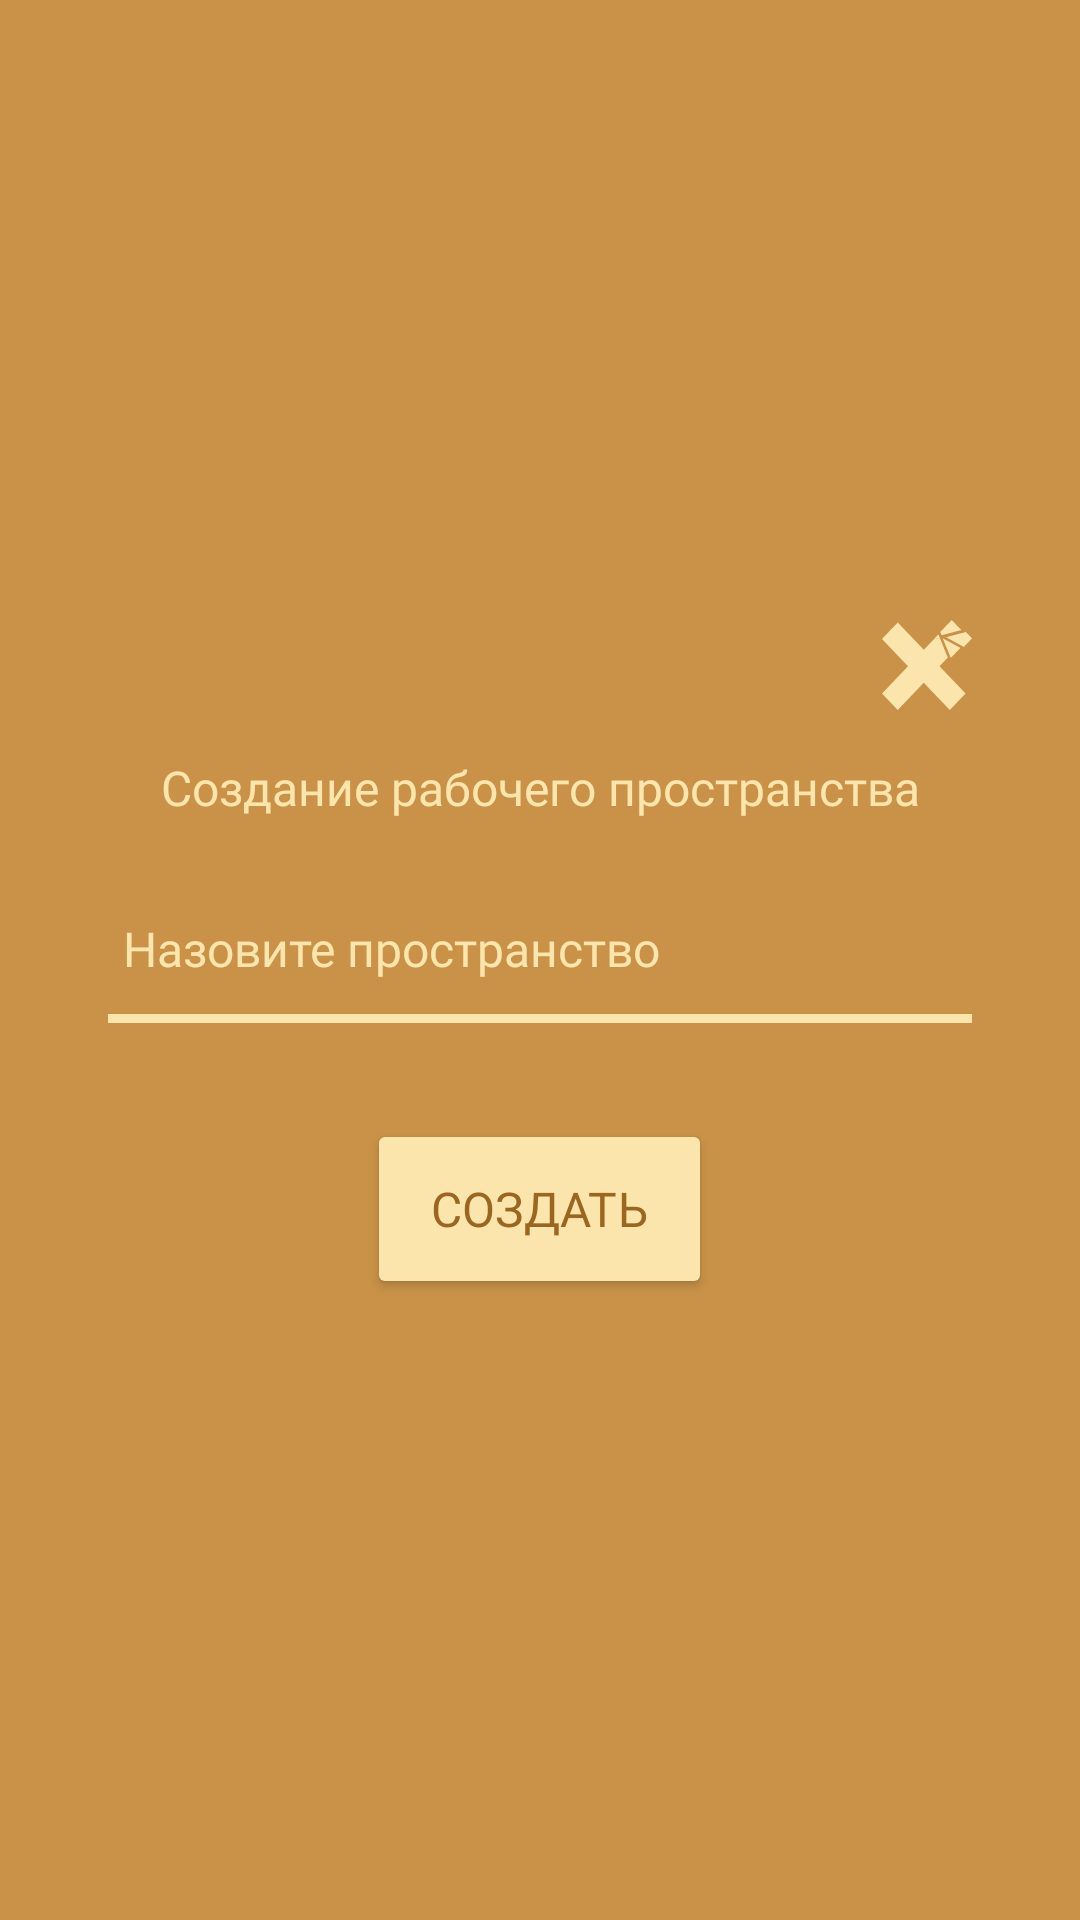

Where to tap for icons on this 1080px×1920px app screen, as [x,y]:
close: [927,665]
